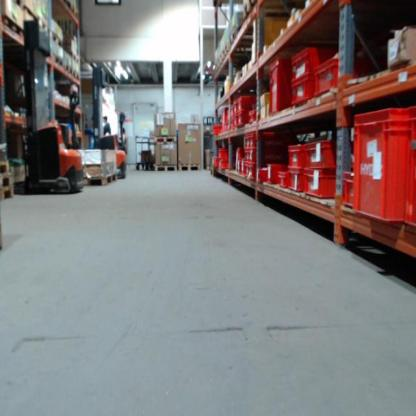pallet: (83, 172, 117, 187), (243, 0, 257, 18), (154, 163, 177, 172), (51, 31, 63, 48), (0, 187, 13, 202), (178, 164, 201, 172), (154, 136, 177, 144), (0, 161, 11, 175), (0, 176, 12, 188), (54, 56, 64, 69), (71, 52, 80, 63), (65, 64, 73, 74), (73, 71, 80, 80)
pallet_truck: (16, 17, 81, 187), (90, 64, 127, 176), (64, 82, 88, 151)
small_load_carrier: (353, 105, 405, 230), (287, 43, 332, 79), (311, 56, 357, 91), (404, 102, 415, 232), (304, 137, 346, 168), (266, 57, 288, 113), (304, 168, 340, 201), (288, 76, 314, 107), (338, 165, 355, 209), (284, 141, 308, 168), (233, 97, 251, 131), (287, 169, 309, 193), (250, 130, 274, 148), (249, 147, 272, 165), (237, 94, 258, 113), (248, 163, 265, 179), (269, 166, 282, 184), (275, 174, 289, 189), (218, 148, 236, 159), (219, 159, 235, 171), (248, 106, 258, 125), (240, 164, 249, 180), (243, 146, 249, 159), (243, 135, 248, 148), (233, 118, 237, 131)
